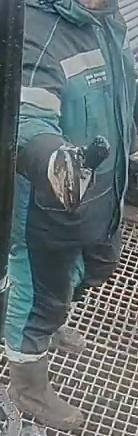gloves: (36, 132, 114, 215)
vest: (19, 0, 138, 238)
